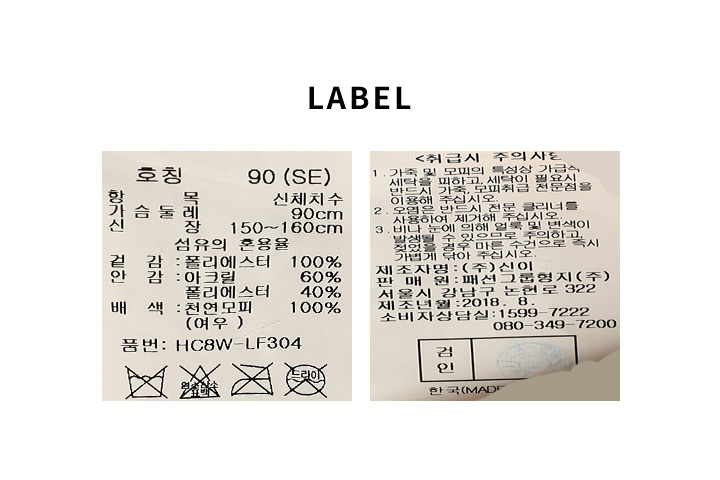KR_no_bleach: (177, 360, 224, 400)
KR_no_dry_clean: (281, 361, 329, 398)
KR_no_iron: (230, 358, 275, 398)
KR_no_wash: (121, 362, 170, 403)
